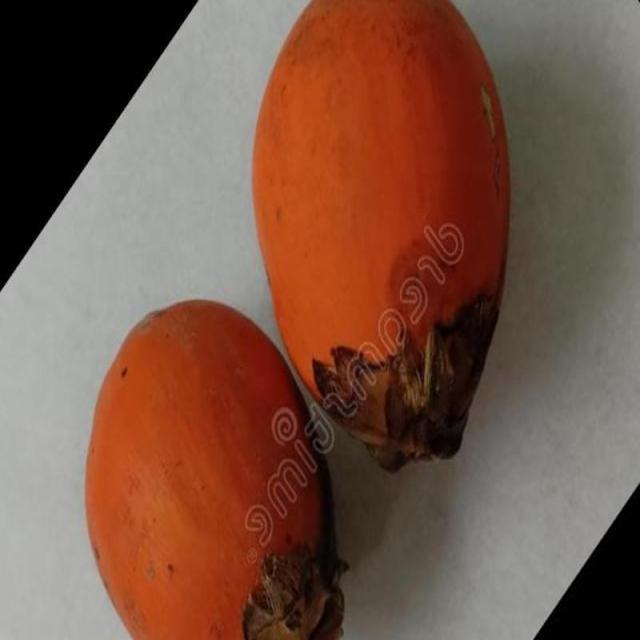good: (250, 0, 511, 473), (84, 300, 344, 639)
